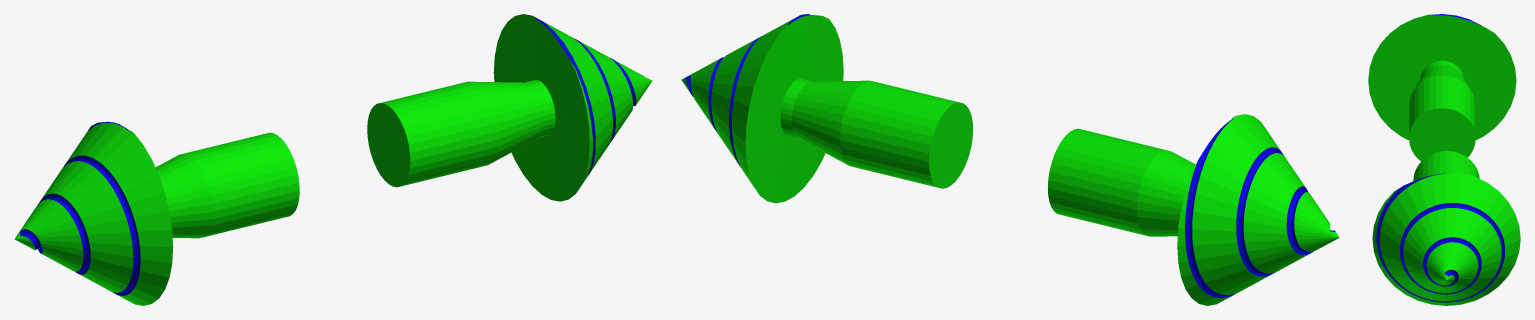
The model's file is side arm lvl 1.fbx.
3 views of the same model, side by side, from view 1: azimuth 30°, elevation 25°; view 2: azimuth 150°, elevation 25°; view 3: azimuth 270°, elevation 25° (orthographic). The views are drawn at different scales.
Visible parts, largest first — view 1: side arm lvl 2, side arm lvl 2.001; view 2: side arm lvl 2, side arm lvl 2.001; view 3: side arm lvl 2, side arm lvl 2.001.
Part boxes in pixels (left/top/right/bottom): side arm lvl 2: left=367, top=14, right=652, bottom=201; side arm lvl 2.001: left=14, top=121, right=299, bottom=305; side arm lvl 2: left=681, top=14, right=973, bottom=203; side arm lvl 2.001: left=1048, top=114, right=1339, bottom=305; side arm lvl 2: left=1372, top=151, right=1520, bottom=305; side arm lvl 2.001: left=1368, top=14, right=1516, bottom=161.
Bounding box in the file's own units: 434 × 112 × 116.
